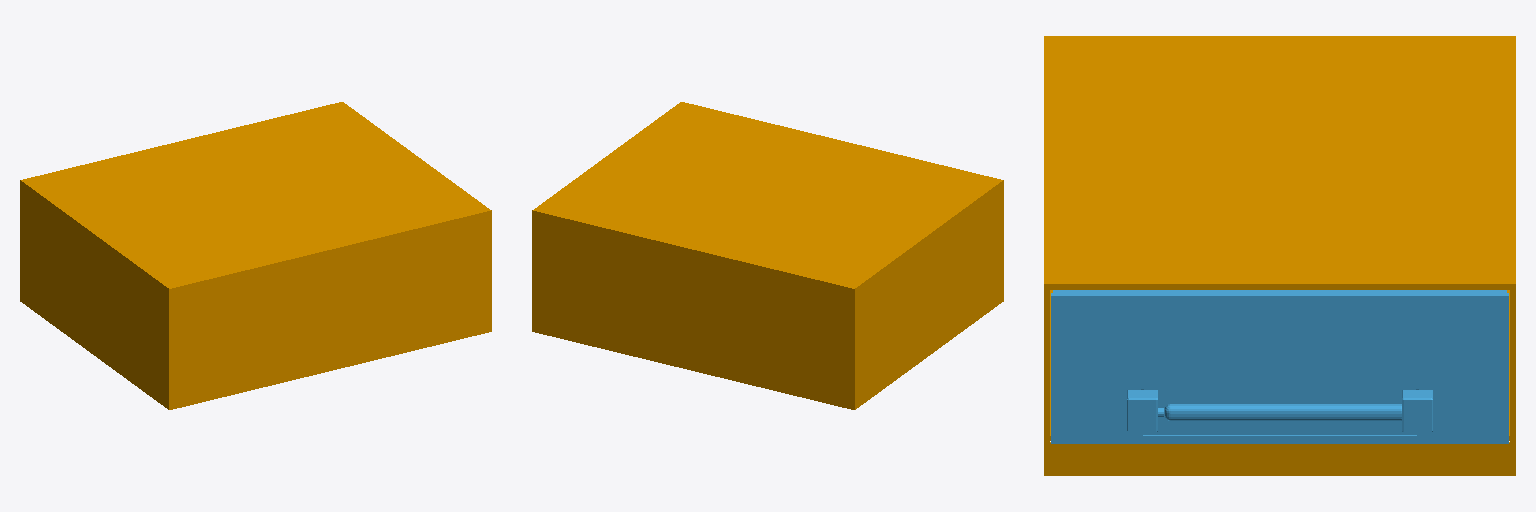
The robot description file, URDF, robot "user_drawer":
<?xml version="1.0"?>
<!-- Generated by scripts/make_drawer_asset.py from robot.urdf.
     Geometry baked +90 deg about z so the slide axis is +X, matching the
     convention every offset in drawer_open_place/action_config.json assumes.
     handle_xpos is derived from the tray geometry, not hand-placed.
     Collision shapes are a CoACD decomposition of the same baked meshes. -->
<robot name="user_drawer">
  <link name="outer_box">
    <inertial><origin xyz="0.000000 0.000000 0.045000" rpy="0 0 0"/>
      <mass value="0.38"/>
      <inertia ixx="0.001523167" ixy="0" ixz="0" iyy="0.002235667" iyz="0" izz="0.003245833"/></inertial>
    <visual><origin xyz="0 0 0" rpy="0 0 0"/>
      <geometry><mesh filename="meshes/base_band_baked.obj"/></geometry></visual>
    <collision><origin xyz="0 0 0" rpy="0 0 0"/>
      <geometry><mesh filename="meshes/base_band_acd.obj"/></geometry></collision>
  </link>

  <link name="inner_box">
    <inertial><origin xyz="-0.107461 0.003860 0.001749" rpy="0 0 0"/>
      <mass value="0.24"/>
      <inertia ixx="0.00085321" ixy="0" ixz="0" iyy="0.00122854" iyz="0" izz="0.00188854"/></inertial>
    <visual><origin xyz="0 0 0" rpy="0 0 0"/>
      <geometry><mesh filename="meshes/drawer_baked.obj"/></geometry></visual>
    <collision><origin xyz="0 0 0" rpy="0 0 0"/>
      <geometry><mesh filename="meshes/drawer_acd.obj"/></geometry></collision>
  </link>

  <link name="handle_xpos"/>

  <joint name="slide_rails" type="prismatic">
    <origin xyz="0.123412 -0.003860 0.048001" rpy="0 0 0"/>
    <parent link="outer_box"/><child link="inner_box"/>
    <axis xyz="-1 0 0"/>
    <limit lower="-0.18" upper="0.0" effort="25.0" velocity="1.0" acceleration="5.0"/>
  </joint>

  <joint name="fixed_handle" type="fixed">
    <origin xyz="0.005989 0.003860 -0.015001" rpy="0 -1.5707963268 0"/>
    <parent link="inner_box"/><child link="handle_xpos"/>
  </joint>
</robot>

--- Facts derived from the render (not from the file) ---
Views: 3 orthographic renders of the robot side by side, from view 1: azimuth 30°, elevation 25°; view 2: azimuth 150°, elevation 25°; view 3: azimuth 270°, elevation 25°.
Model user_drawer with 3 links and 2 joints (1 prismatic, 1 fixed), rooted at outer_box, posed all joints at 0.
Visible links, largest first — view 1: outer_box; view 2: outer_box; view 3: outer_box, inner_box.
Boxes of the visible links, left/top/right/bottom form: outer_box: left=20, top=102, right=491, bottom=409; outer_box: left=532, top=102, right=1003, bottom=409; outer_box: left=1044, top=36, right=1515, bottom=475; inner_box: left=1051, top=290, right=1508, bottom=443.
Bounding box of the posed robot: 0.2599 × 0.2 × 0.09 m (x, y, z).
2 mesh visuals loaded from 2 distinct referenced files (2 OBJ).
